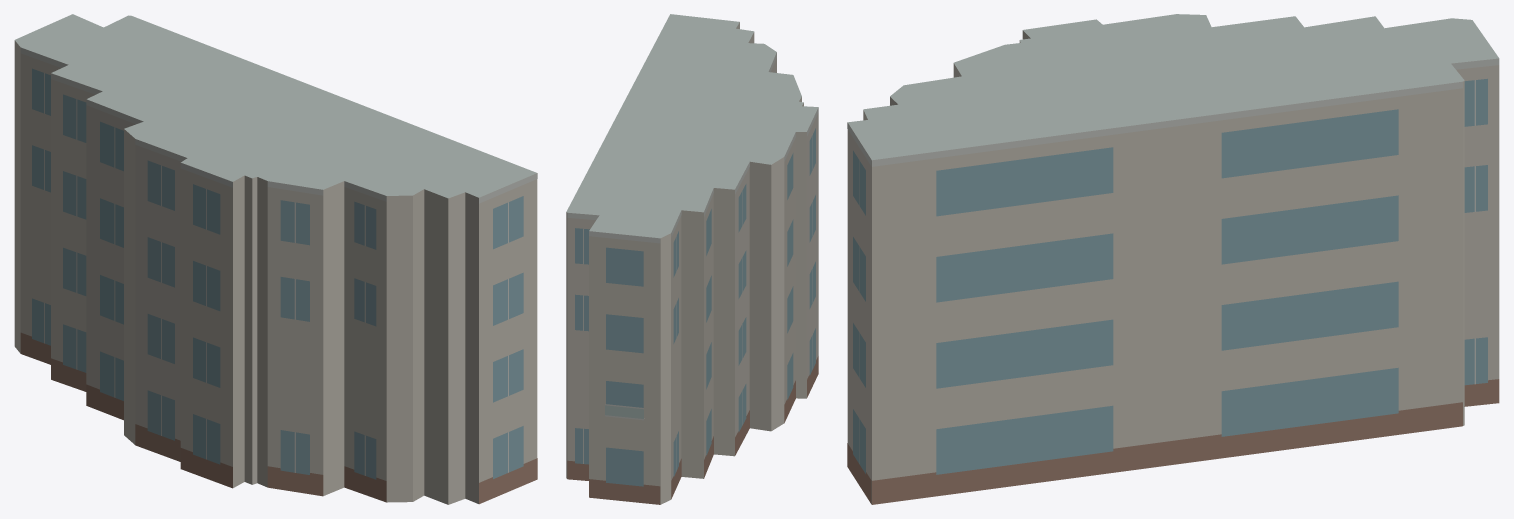
The model's file is survey-upis-32965142.glb.
3 views of the same model, side by side, from view 1: azimuth 30°, elevation 25°; view 2: azimuth 150°, elevation 25°; view 3: azimuth 270°, elevation 25° (orthographic). The views are drawn at different scales.
Visible parts, largest first — view 1: survey-upis-32965142.tmp; view 2: survey-upis-32965142.tmp; view 3: survey-upis-32965142.tmp.
Boxes of the visible parts, x1=… form: survey-upis-32965142.tmp: x1=14, y1=14, x2=537, y2=504; survey-upis-32965142.tmp: x1=566, y1=14, x2=818, y2=504; survey-upis-32965142.tmp: x1=847, y1=14, x2=1499, y2=504.
Size of the model in its own units: 11.57 by 12.7 by 21.78.
